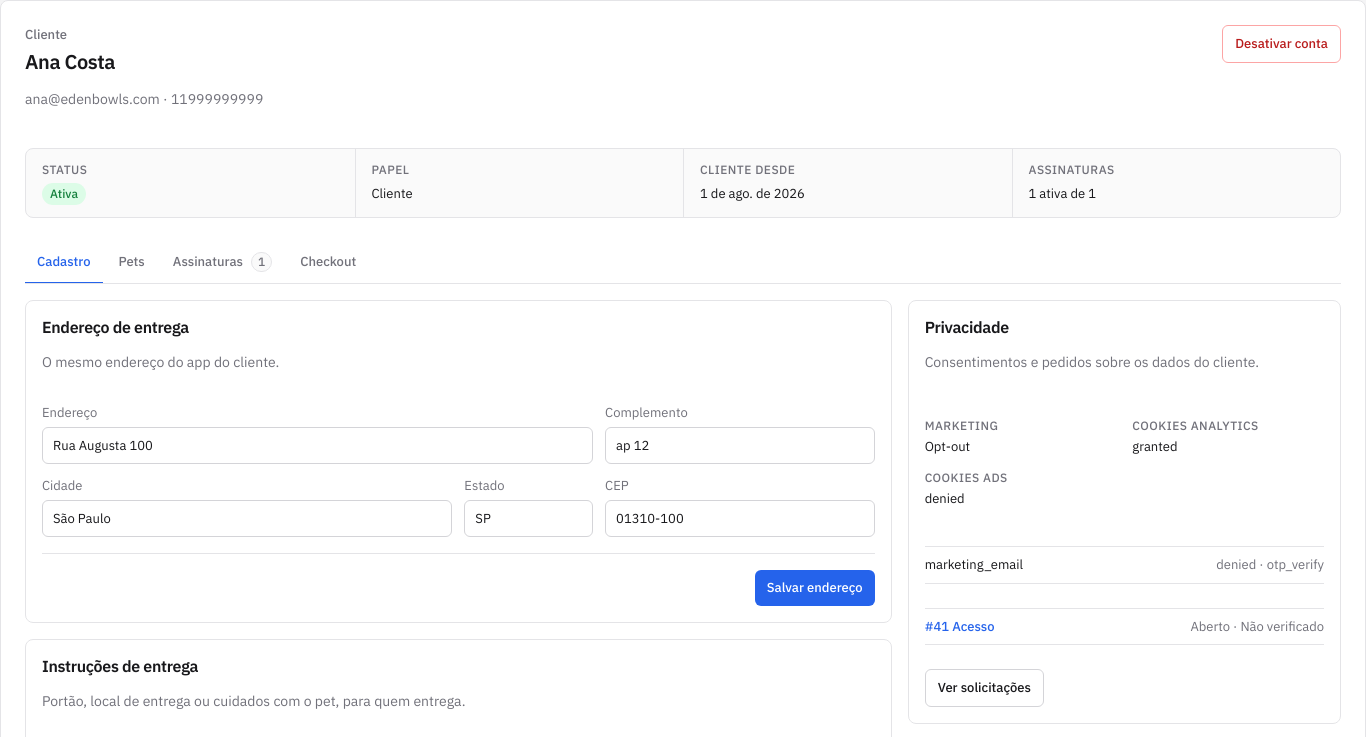
it: UserDetailPage › saves the customer delivery address
This screenshot has width=1366, height=737.
Replace the text in the field labelled "Endereço" with "Rua Oscar Freire 200": (318, 445) [42,427,593,464]
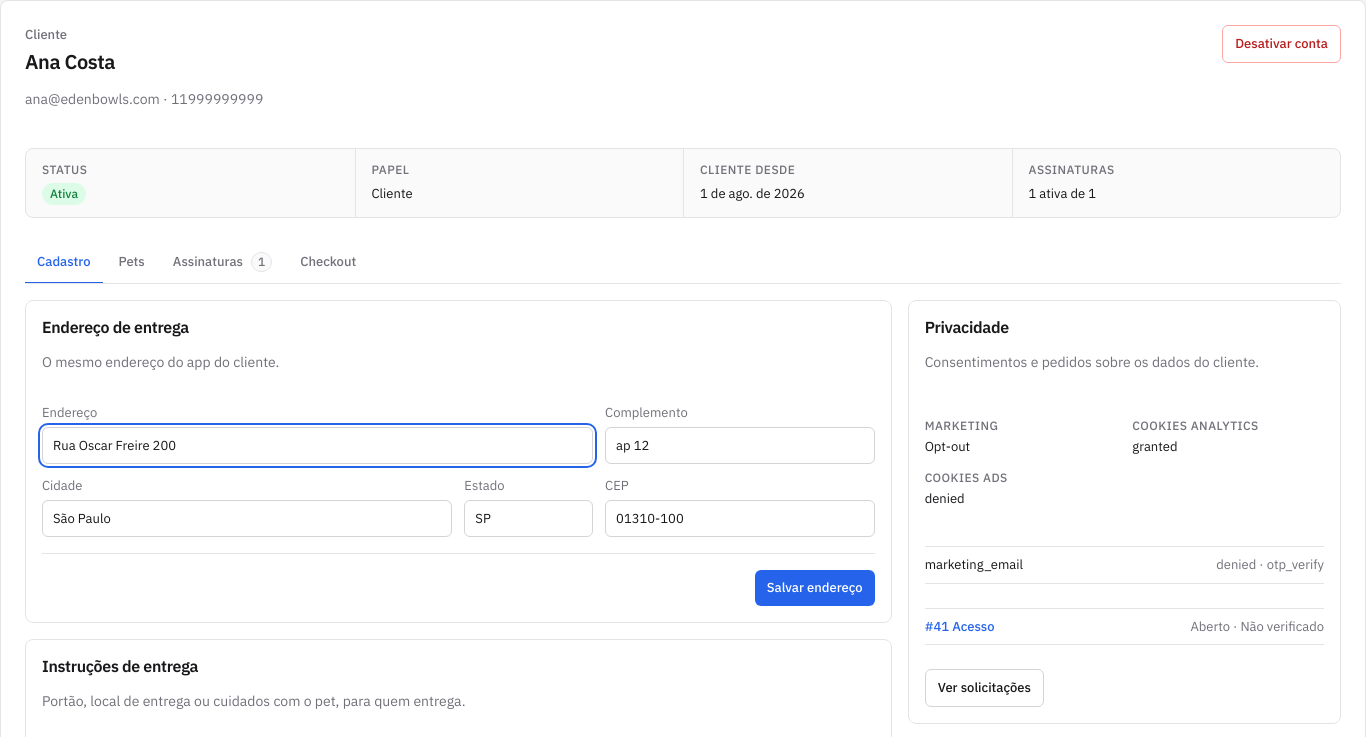
Click the button "Salvar endereço": (815, 588) [755,570,875,606]
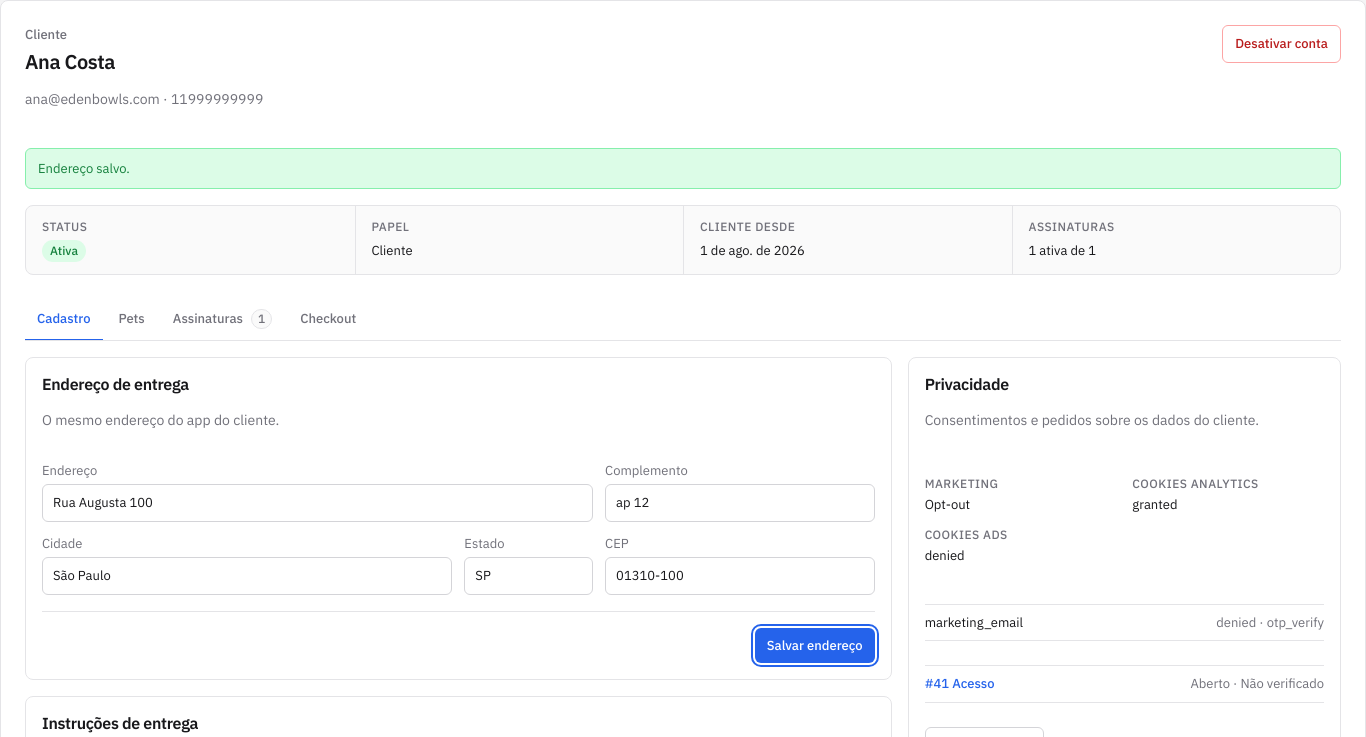
Result: the text "Endereço salvo." is shown at [25,148,1341,189]
